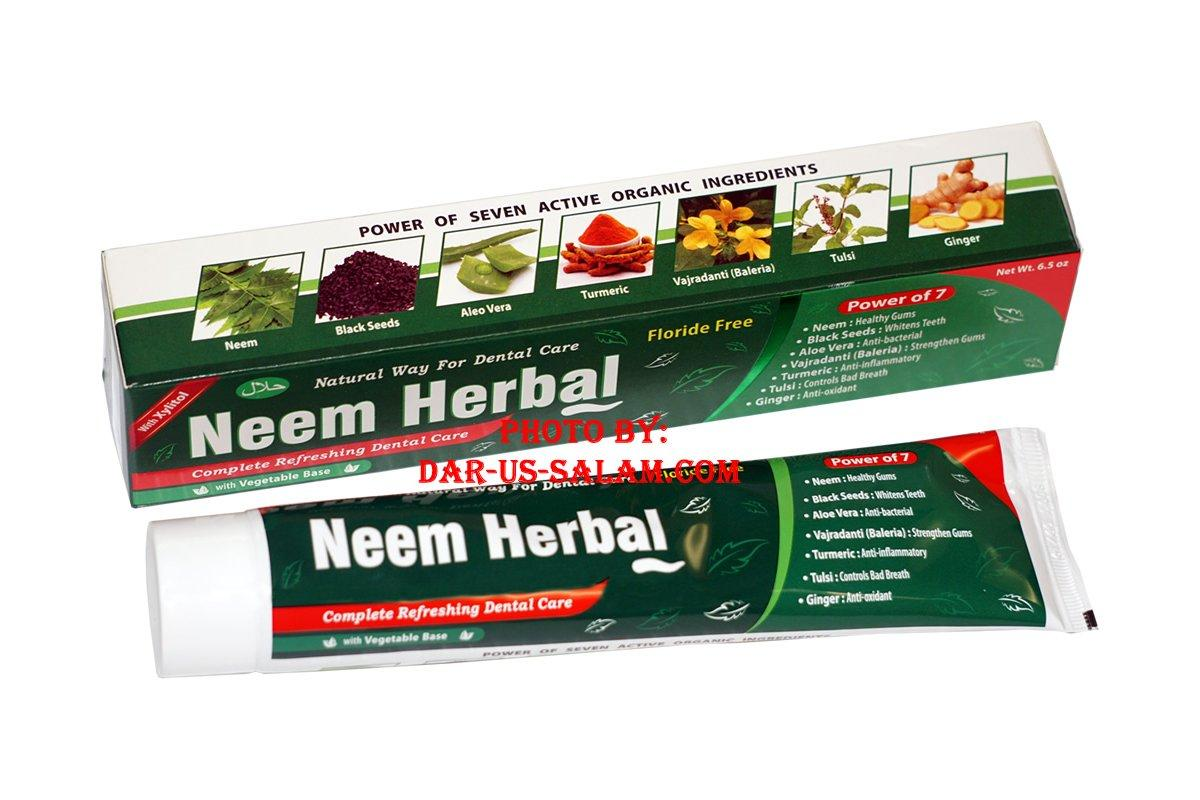toothpaste: (108, 117, 1109, 501), (127, 476, 1127, 689)
